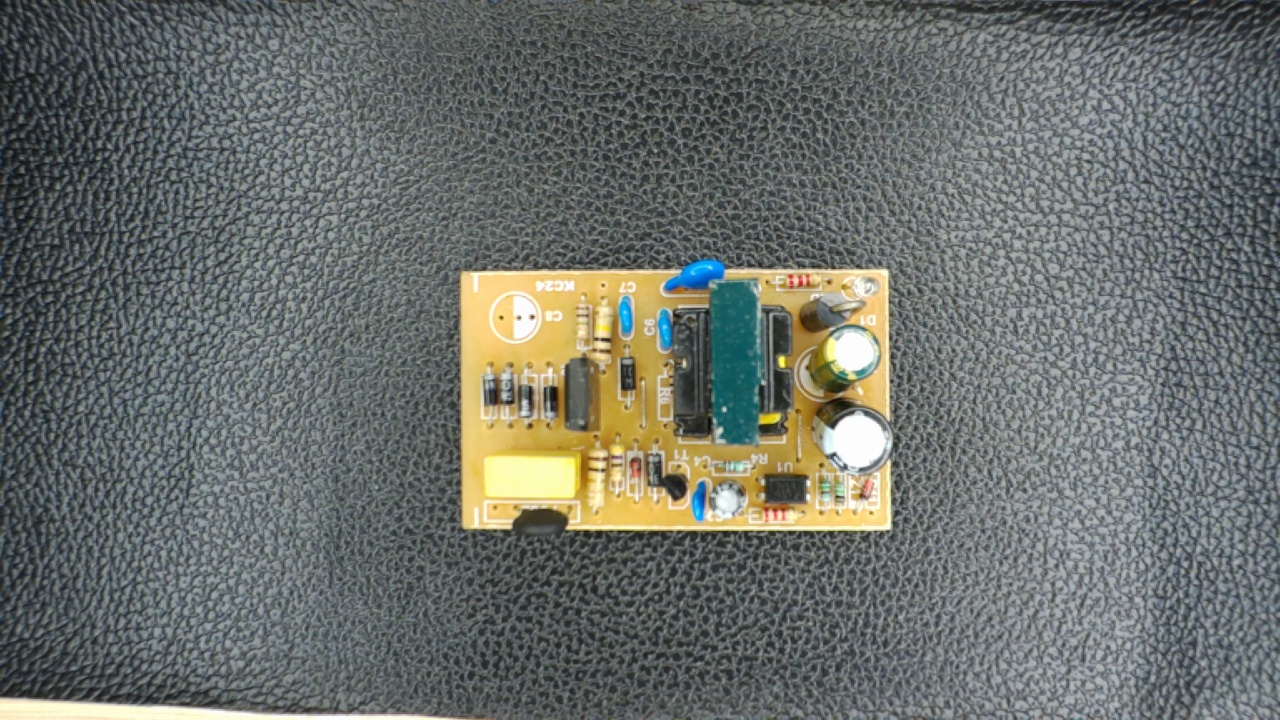fuse: (495, 500, 579, 539)
mov: (657, 255, 731, 299)
optocoupler: (752, 470, 815, 512)
